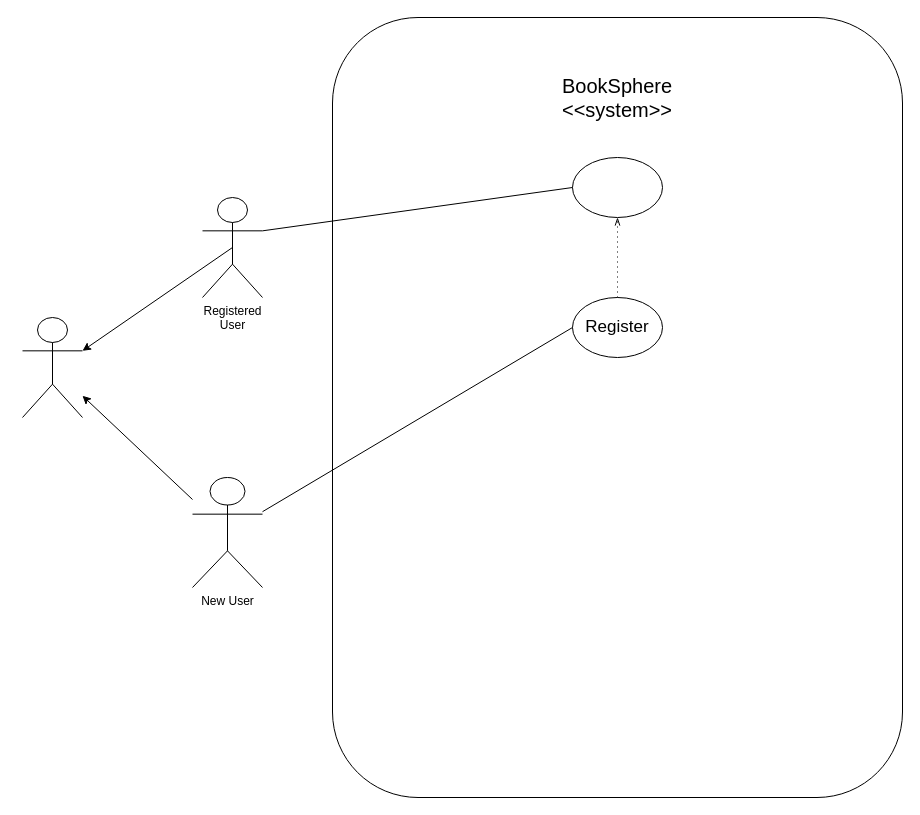
Image size: 920x815. Some labels were removed from this diagram. Here are the shapes that lost their labels. From the top down, the box of each, then its label:
(572, 156, 662, 218): User Login
(22, 316, 82, 418): General User
